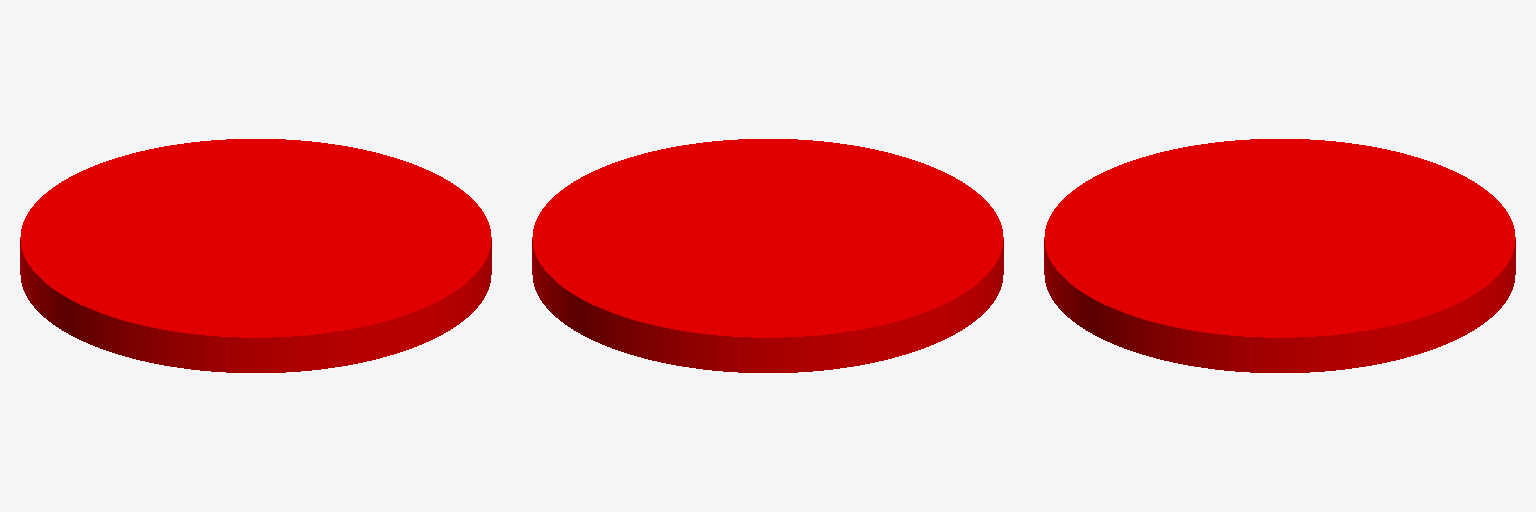
The robot description file, URDF, robot "cylinder":
<?xml version="1.0" ?>
<robot name="cylinder">
  <link name="cylinder_button">
    <inertial>
      <mass value="0.1"/>
      <origin rpy="0  0  0" xyz="0  0  0"/>
      <inertia ixx="0.0008175" ixy="0" ixz="0" iyy="0.0008175" iyz="0" izz="0.00162"/>
    </inertial>
    <collision name="cylinder_button_collision">
      <origin rpy="0  0  0" xyz="0  0  0"/>
      <geometry>
        <mesh filename="meshes/button.dae" scale="1.0 1.0 .5"/>
      </geometry>
    </collision>
    <visual name="cylinder_button_visual">
      <origin rpy="0  0  0" xyz="0  0  0"/>
      <geometry>
        <mesh filename="meshes/button.dae" scale="1.0 1.0 .5"/>
      </geometry>
      <material name="yellow">
        <!--<color rgba="1 1 0 1"/>-->
        <color rgba="1 0. 0 1"/>
      </material>
    </visual>
  </link>
</robot>

--- Facts derived from the render (not from the file) ---
Views: 3 orthographic renders of the robot side by side, from view 1: azimuth 30°, elevation 25°; view 2: azimuth 150°, elevation 25°; view 3: azimuth 270°, elevation 25°.
Robot: cylinder — 1 links, 0 joints (none); root link cylinder_button; default pose: all joints at 0.
Visible links, largest first — view 1: cylinder_button; view 2: cylinder_button; view 3: cylinder_button.
Link boxes in pixels (x1,y1,x2,y2): cylinder_button: (20, 139, 491, 372); cylinder_button: (532, 139, 1003, 372); cylinder_button: (1044, 139, 1515, 372).
Size in the robot's own frame: 0.18 by 0.18 by 0.015 metres.
Meshes: 1 distinct files referenced, 1 mesh visuals loaded (1 Collada DAE).